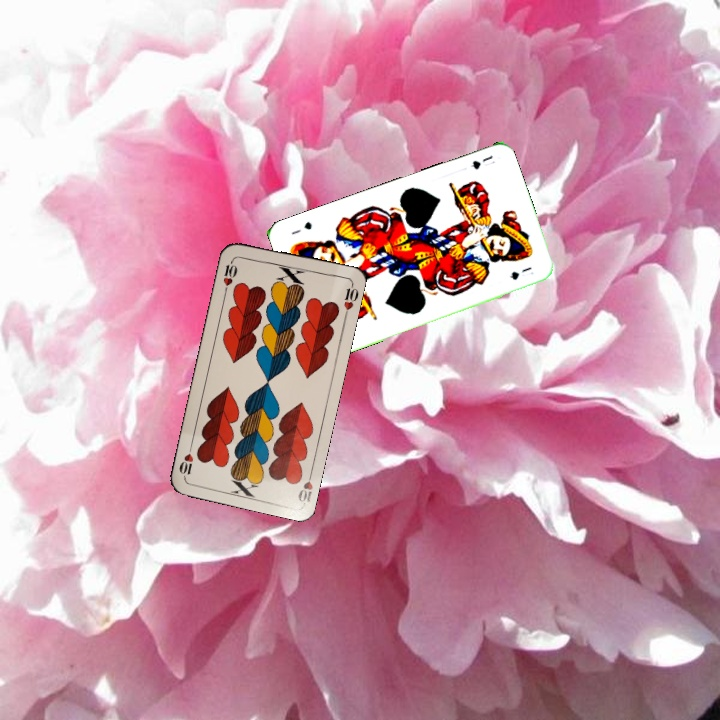GU: (467, 151, 495, 172)
H10: (293, 466, 316, 506), (219, 255, 240, 295)
